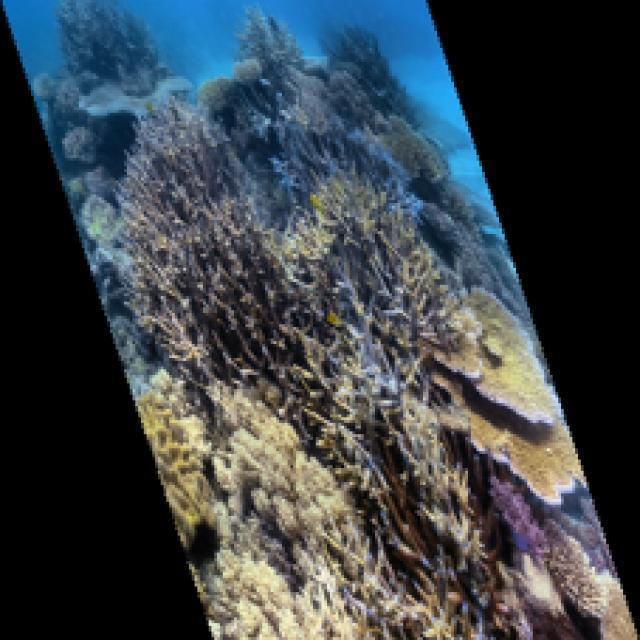Dead Coral: (96, 82, 366, 377), (275, 165, 482, 399)
